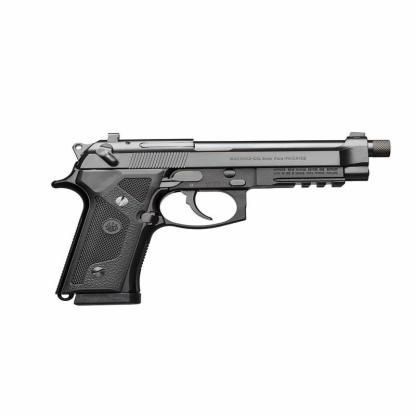Pistol: (54, 131, 393, 306)
